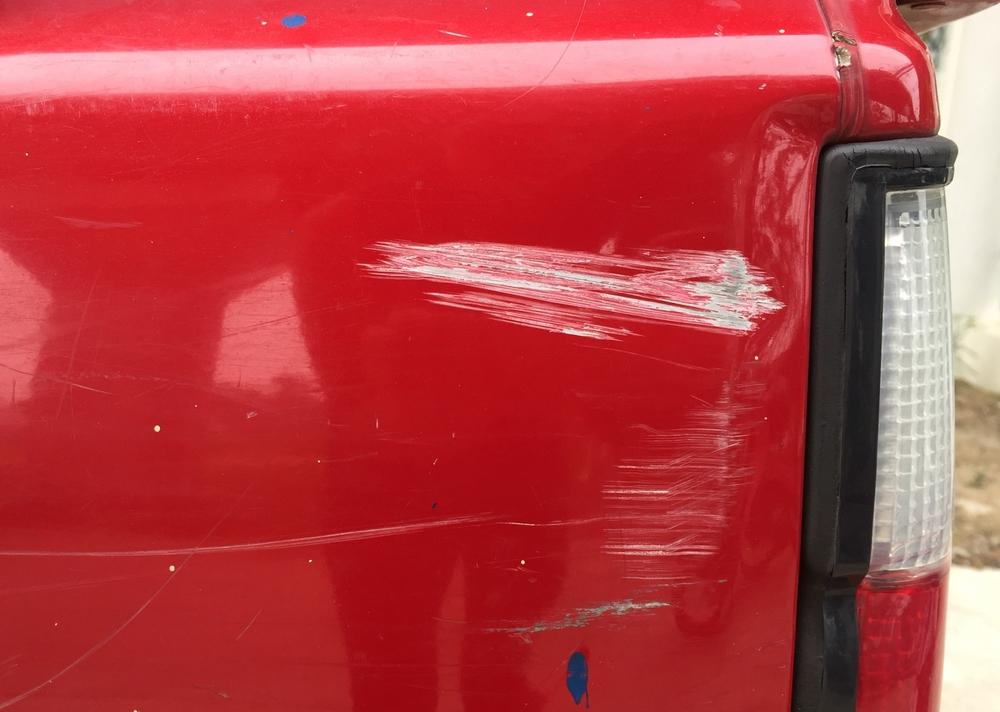scratch: (351, 230, 795, 642), (0, 511, 485, 565)
